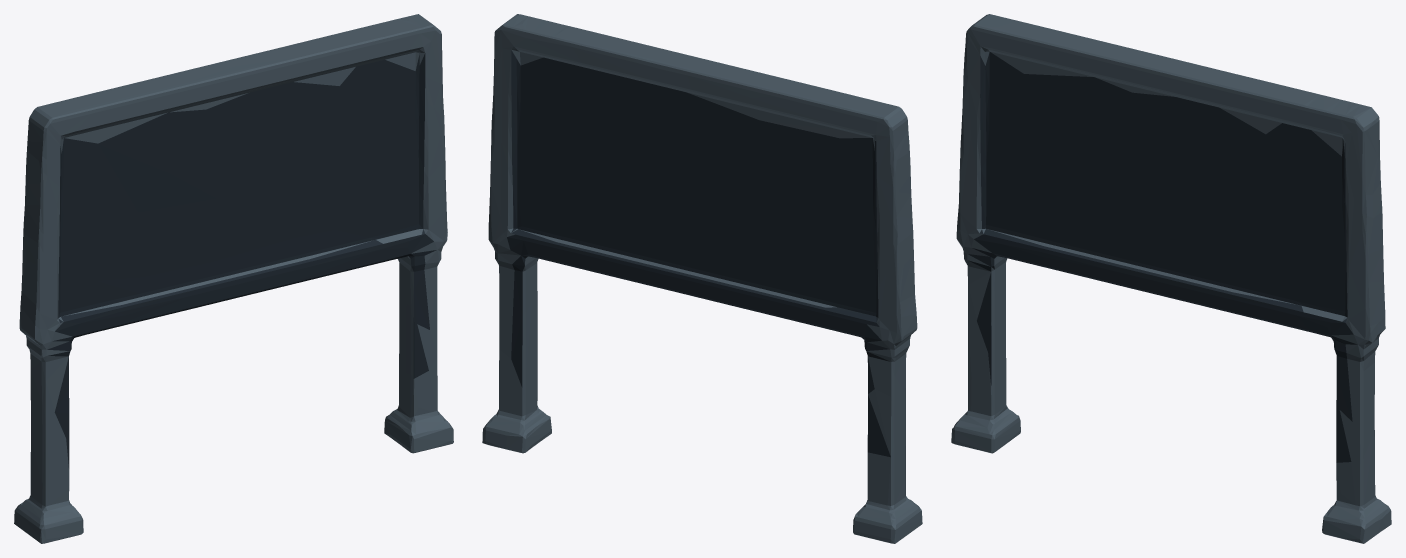
File: menu_board.glb
3 views of the same model, side by side, from view 1: azimuth 30°, elevation 25°; view 2: azimuth 150°, elevation 25°; view 3: azimuth 330°, elevation 25° (orthographic).
Parts seen in each view (by area): view 1: menu_board; view 2: menu_board; view 3: menu_board.
Part boxes in pixels (left/top/right/bottom): menu_board: left=14, top=14, right=453, bottom=543; menu_board: left=482, top=14, right=922, bottom=543; menu_board: left=951, top=14, right=1391, bottom=543.
Size of the model in its own units: 1.5 by 1.45 by 0.18.
